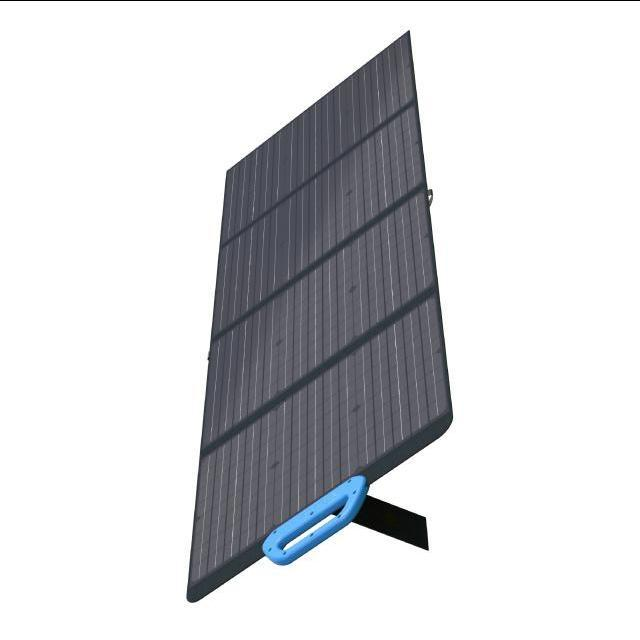no faulty: (192, 25, 445, 585)
